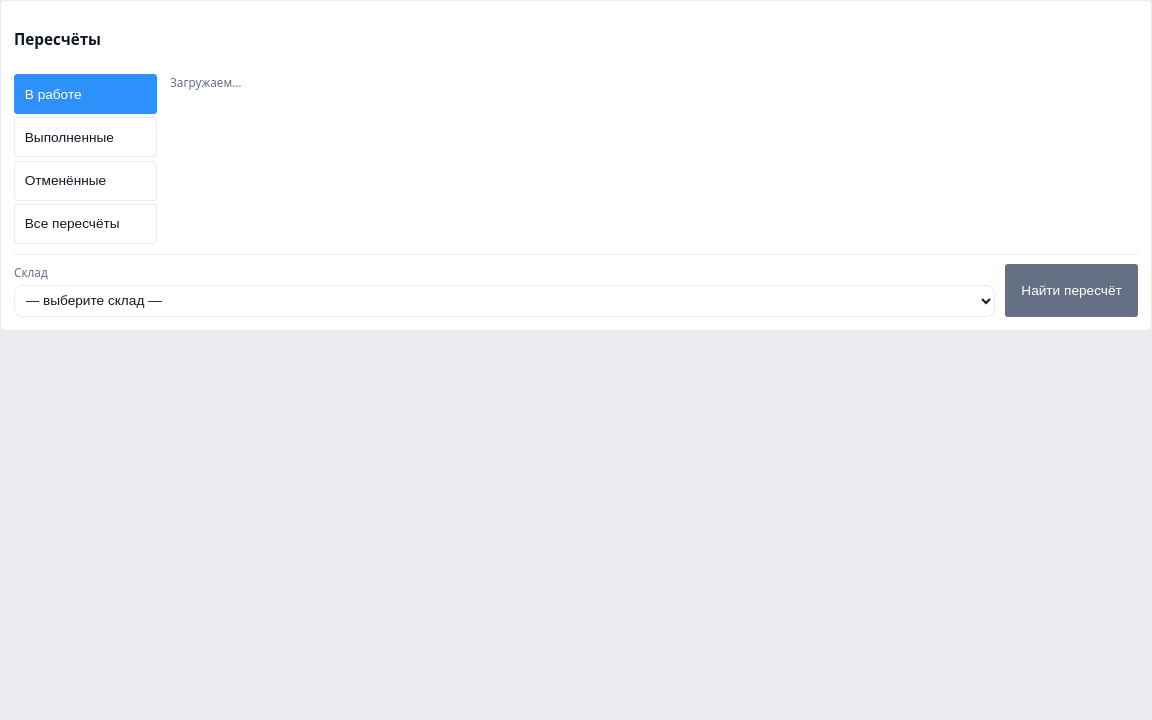
сведение расхождений пересчёта › столбец «Состояние» за «Деталью», в нём слово
Click the button "Выполненные".
click(86, 137)  # box top-left (14, 117), bottom-right (157, 157)
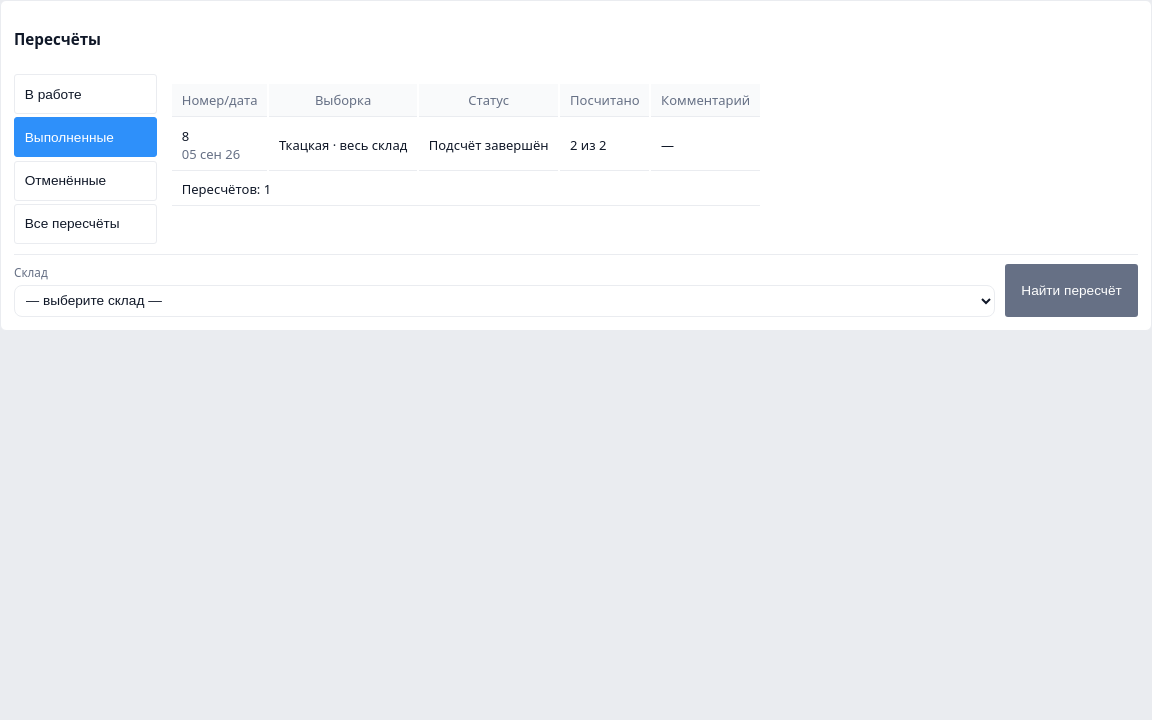
Click the text "Подсчёт завершён".
click(489, 145)  # box top-left (419, 119), bottom-right (558, 171)
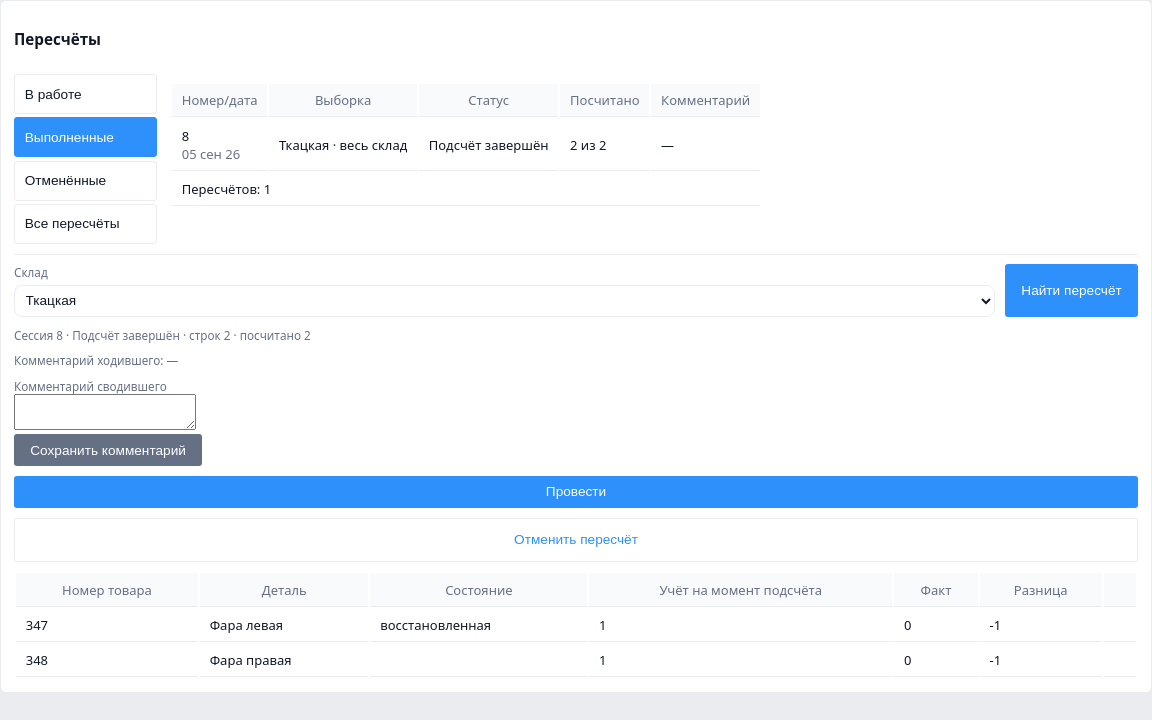
Now the text "Фара левая" is shown, box top-left (200, 609), bottom-right (368, 642)
Now the cell "восстановленная" is shown, box top-left (370, 609), bottom-right (587, 642)
Now the column heading "Деталь" is shown, box top-left (200, 574), bottom-right (368, 607)
